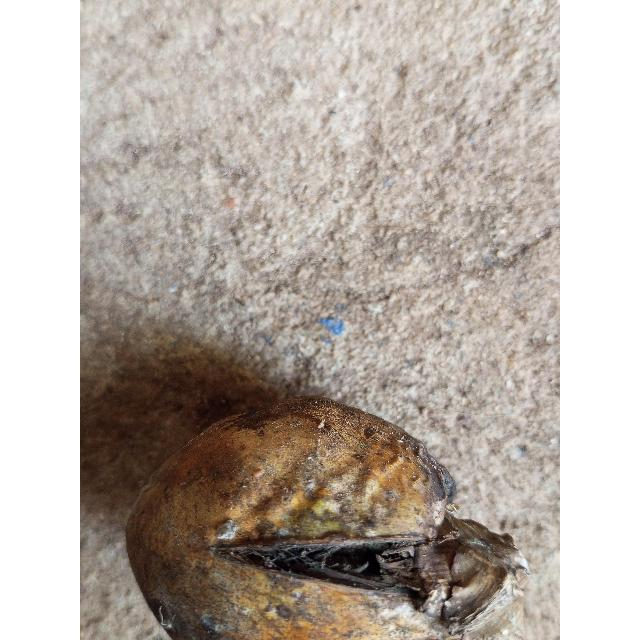damaged: (124, 394, 528, 640)
